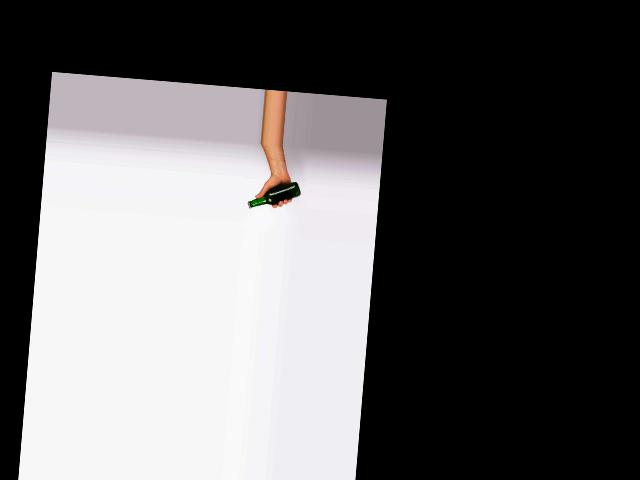beer: (247, 177, 301, 211)
